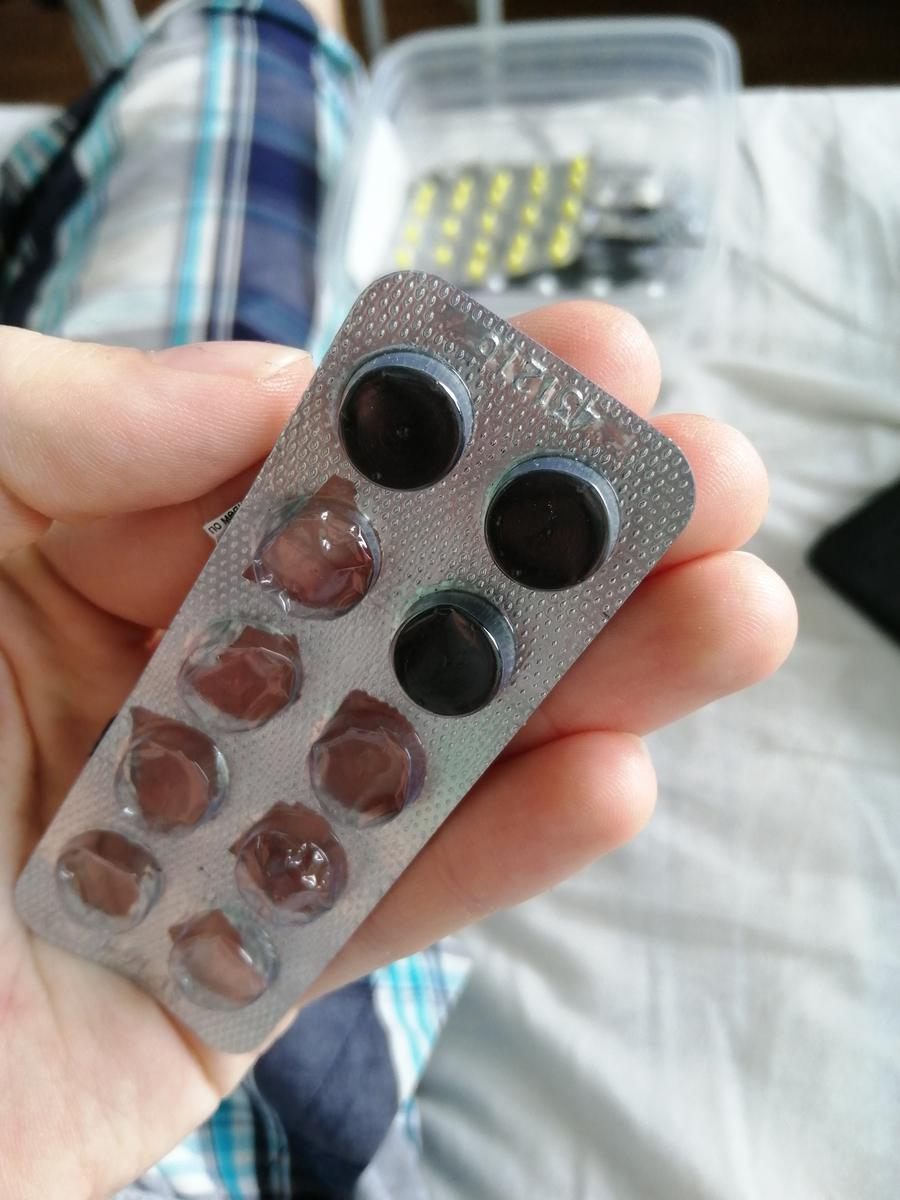tablet: (334, 349, 471, 492), (482, 458, 617, 593), (390, 592, 514, 716)
